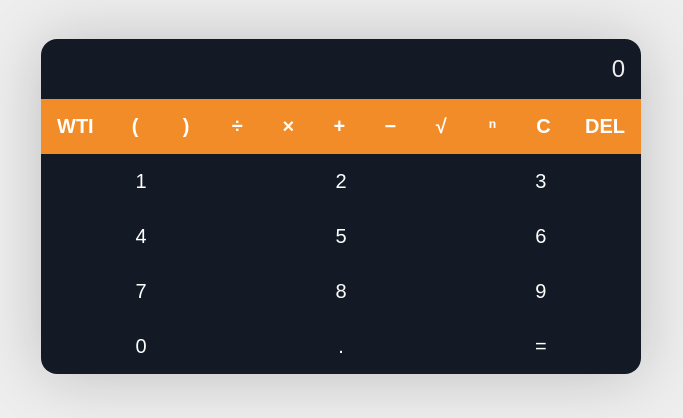
Test: it gets the price
Click the button with class "wti": (75, 126) [41,98,110,154]
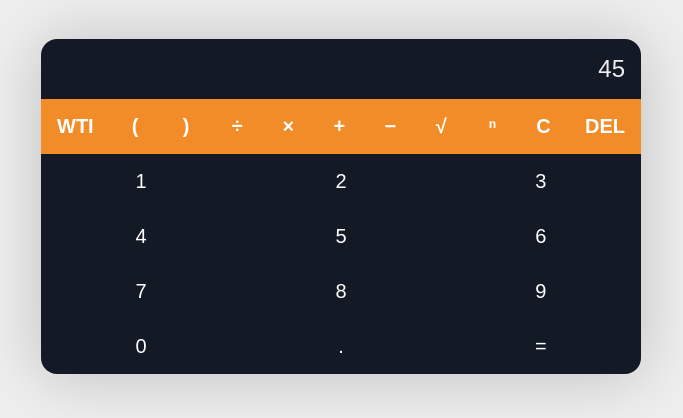
expect the text with class "display" reads "45": met, box [598,54,625,82]
